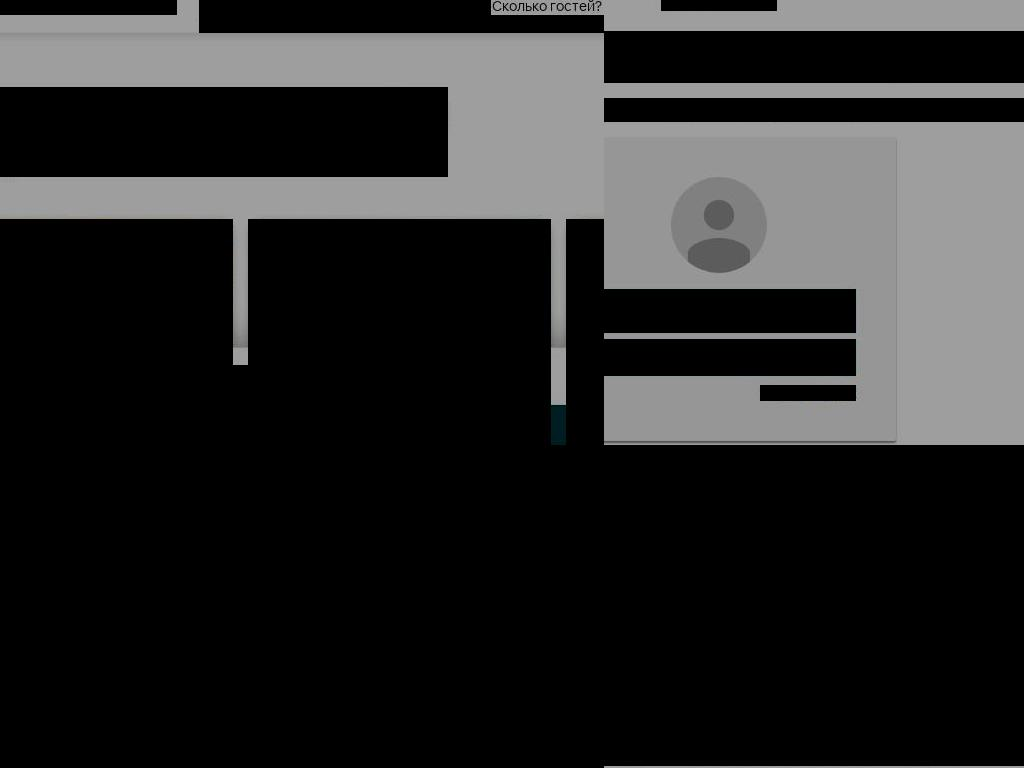button: (248, 219, 551, 445), (0, 219, 233, 445), (199, 0, 469, 33), (467, 0, 604, 33), (532, 405, 604, 445), (760, 385, 856, 401), (79, 497, 139, 517), (0, 497, 49, 517), (169, 497, 207, 517)
field: (604, 289, 856, 333), (604, 339, 856, 376), (0, 0, 177, 15)
heading: (0, 87, 448, 177), (604, 31, 1024, 83), (604, 98, 1024, 122)
image: (604, 445, 1024, 764), (604, 714, 1024, 764), (671, 177, 767, 273), (661, 0, 777, 11)
text: (0, 445, 604, 768), (0, 365, 465, 445), (604, 714, 1024, 764), (223, 0, 445, 15), (264, 432, 483, 445), (0, 432, 136, 445), (491, 0, 604, 15), (264, 237, 327, 257)
